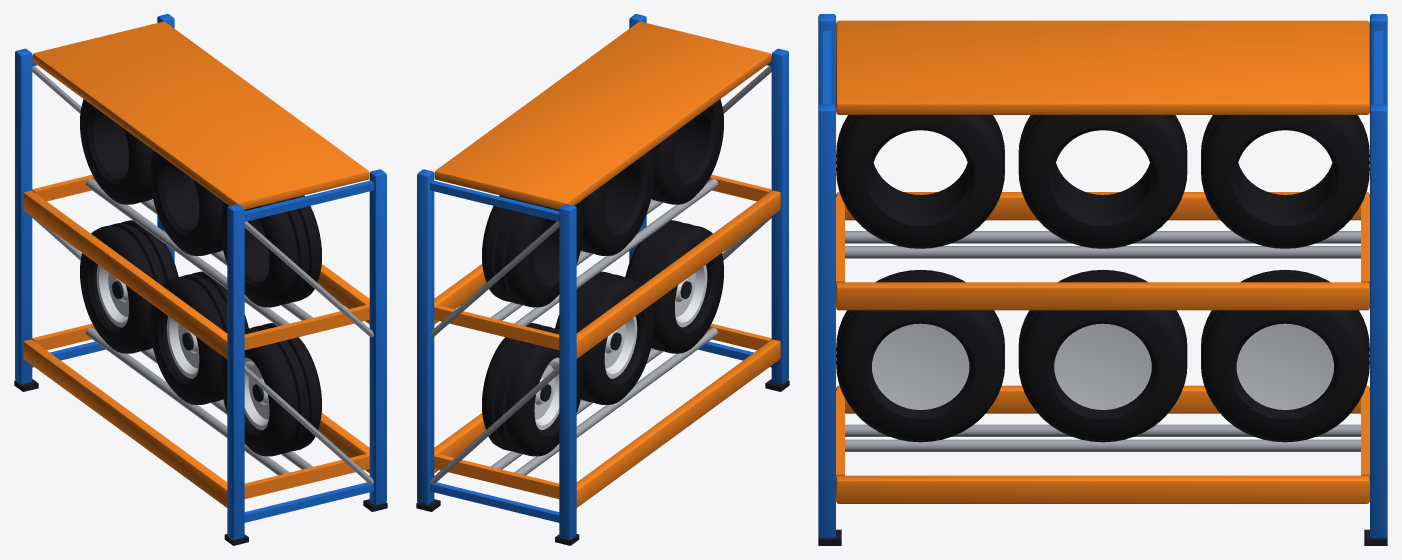
File: G_TireRack.fbx
3 renders of one model, left to right at view 1: azimuth 30°, elevation 25°; view 2: azimuth 150°, elevation 25°; view 3: azimuth 270°, elevation 25°, orthographic. The views are drawn at different scales.
Visible parts, largest first — view 1: Orange, Rubber.003, Blue.002, Metal.004, Chrome.004, Dark.004; view 2: Orange, Rubber.003, Blue.002, Metal.004, Chrome.004, Dark.004; view 3: Orange, Rubber.003, Chrome.004, Metal.004, Blue.002.
Boxes of the visible parts, x1=… form: Orange: x1=23, y1=21, x2=369, y2=507; Rubber.003: x1=80, y1=99, x2=321, y2=456; Blue.002: x1=15, y1=14, x2=386, y2=539; Metal.004: x1=32, y1=66, x2=373, y2=483; Chrome.004: x1=96, y1=265, x2=269, y2=430; Dark.004: x1=14, y1=281, x2=387, y2=545; Orange: x1=434, y1=21, x2=780, y2=507; Rubber.003: x1=482, y1=99, x2=723, y2=456; Blue.002: x1=417, y1=14, x2=788, y2=539; Metal.004: x1=430, y1=66, x2=771, y2=483; Chrome.004: x1=534, y1=265, x2=707, y2=430; Dark.004: x1=416, y1=281, x2=789, y2=545; Orange: x1=836, y1=20, x2=1369, y2=503; Rubber.003: x1=836, y1=115, x2=1369, y2=442; Chrome.004: x1=872, y1=323, x2=1333, y2=409; Metal.004: x1=845, y1=231, x2=1360, y2=451; Blue.002: x1=818, y1=14, x2=1387, y2=538.
Size of the model in its own units: 2.6 by 5.4 by 6.4.
